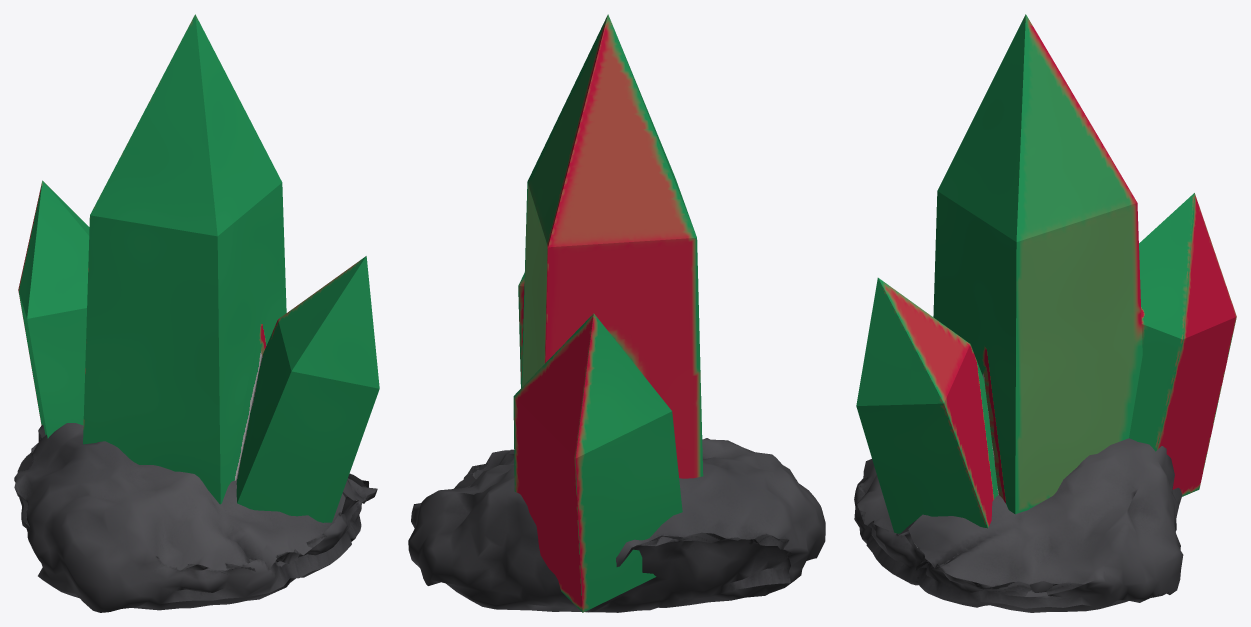
File: alexandrita_gigante.fbx
3 views of the same model, side by side, from view 1: azimuth 30°, elevation 25°; view 2: azimuth 150°, elevation 25°; view 3: azimuth 270°, elevation 25° (orthographic). The views are drawn at different scales.
Visible parts, largest first — view 1: alexandrita_gigante_cristal, alexandrita_gigante; view 2: alexandrita_gigante_cristal, alexandrita_gigante; view 3: alexandrita_gigante_cristal, alexandrita_gigante.
Boxes of the visible parts, box(x1,y1,x2,y2) form: alexandrita_gigante_cristal: box(18, 14, 379, 522); alexandrita_gigante: box(14, 423, 377, 612); alexandrita_gigante_cristal: box(513, 14, 703, 612); alexandrita_gigante: box(408, 438, 825, 612); alexandrita_gigante_cristal: box(856, 14, 1236, 533); alexandrita_gigante: box(854, 438, 1183, 612).
Size of the model in its own units: 2.41 by 3.72 by 2.4.
Materials: 2 (2 with a texture image).
